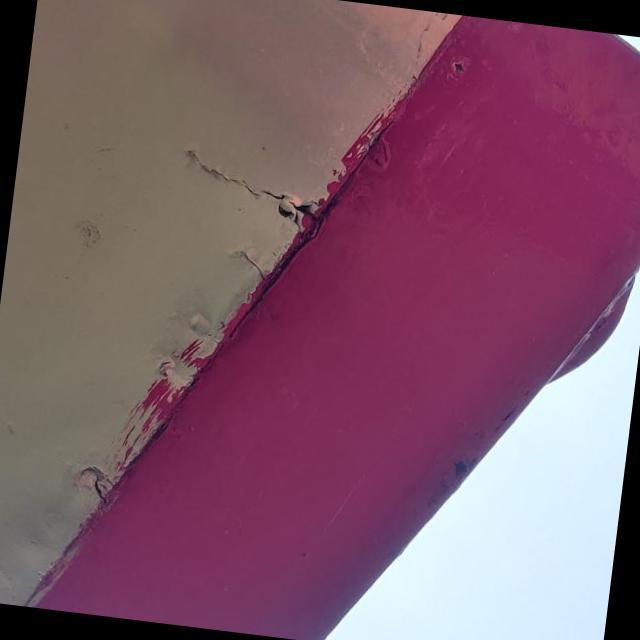Rupture: (170, 140, 331, 239), (231, 242, 277, 286), (83, 468, 122, 513)
